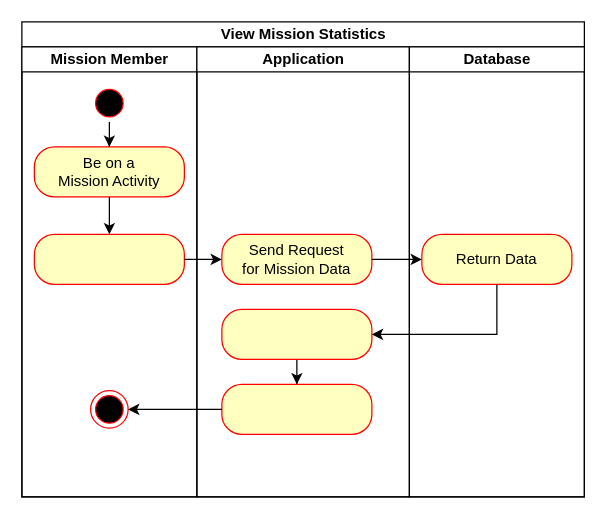
This 606x519 diagram has some shape labels left out. The shapes that lost their labels are listed below. From the top down, each one's centre as x and y in pixels, then its label:
At (108,258): "Click on Statistics Button".
At (296,333): "Construct Useful Information with Data".
At (296,408): "Display Information as Graph or Table".
